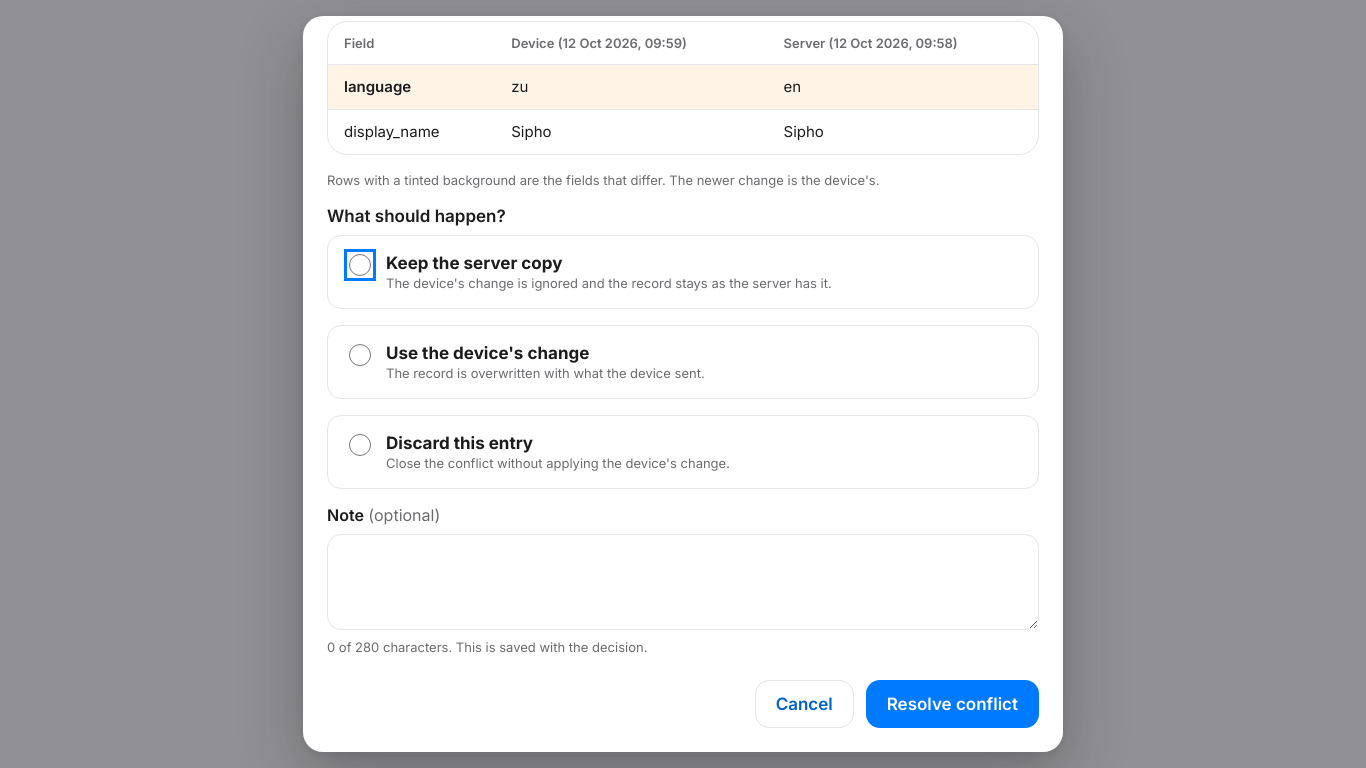
shows the two copies, marks the field that differs, and needs a choice before resolving
(page scrolled)
Expected: the text "The newer change is the device's" is shown, [327, 172, 879, 188]
Click the button "Resolve conflict".
click(952, 704)  # box [866, 680, 1039, 728]
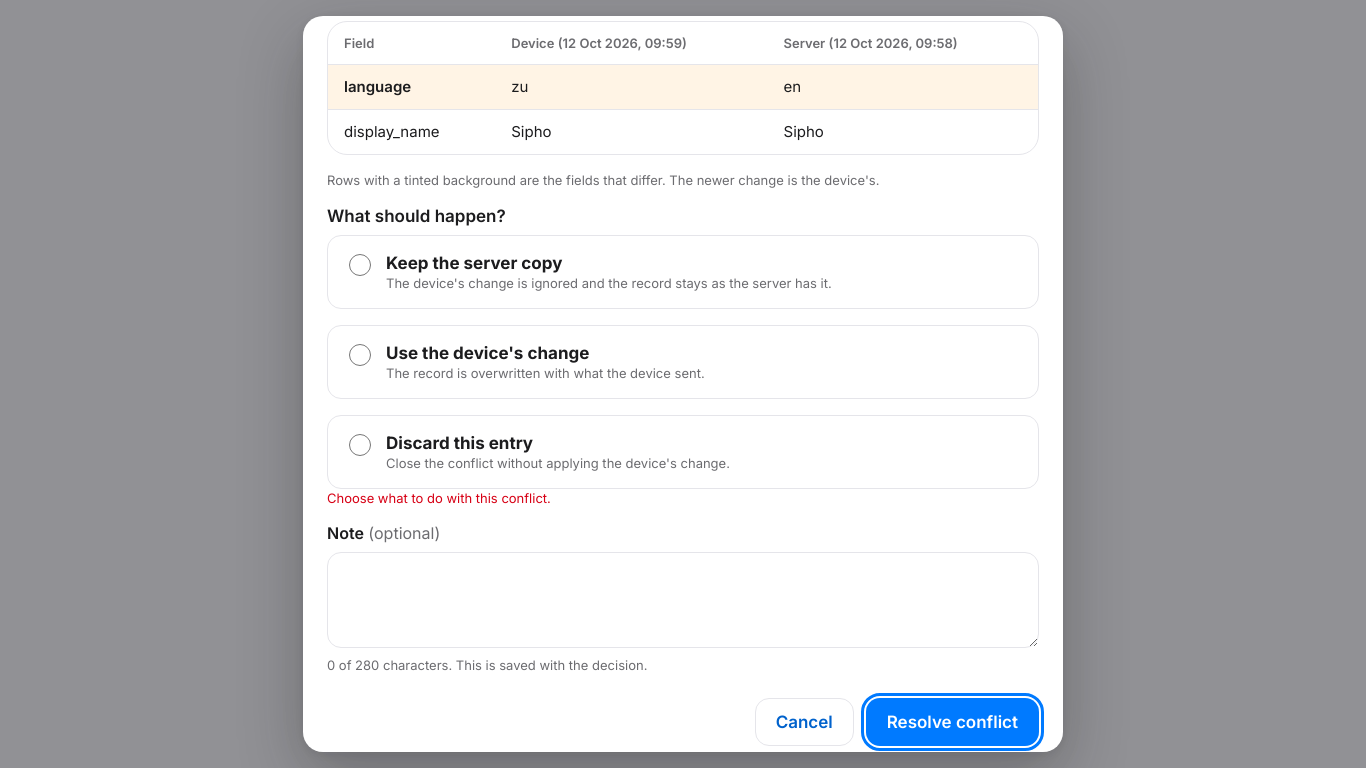
Result: the text "Choose what to do with this conflict." is shown at [327, 490, 551, 506]
